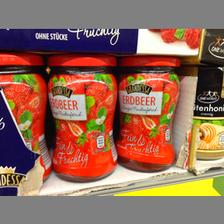Marmelade: (46, 53, 118, 181), (116, 56, 180, 172), (0, 52, 50, 180)
